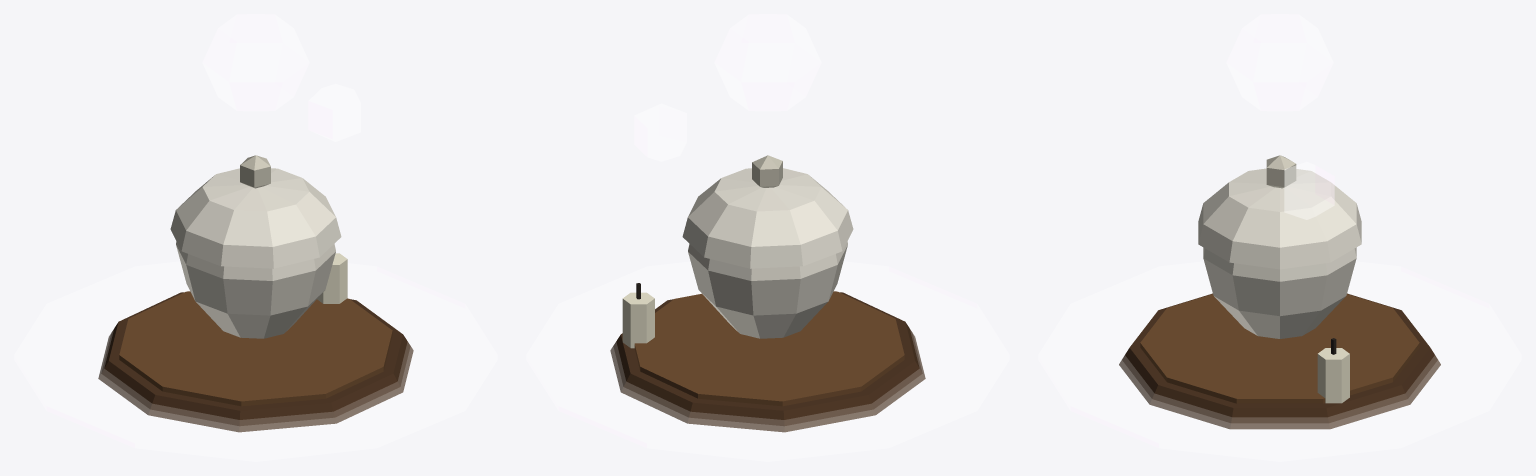
Rendered from prop_keep_bowl.glb.
The picture shows the model from 3 angles, left to right: view 1: azimuth 30°, elevation 25°; view 2: azimuth 150°, elevation 25°; view 3: azimuth 270°, elevation 25°; orthographic projection.
Visible parts, largest first — view 1: prop_keep_bowl, Glow; view 2: prop_keep_bowl, Glow; view 3: prop_keep_bowl, Glow.
Part boxes in pixels (x1,y1,x2,y2): prop_keep_bowl: (98, 155, 413, 432); Glow: (14, 14, 497, 461); prop_keep_bowl: (610, 155, 925, 432); Glow: (526, 14, 1009, 461); prop_keep_bowl: (1119, 155, 1440, 429); Glow: (1038, 14, 1521, 461).
Size of the model in its own units: 0.9 by 0.72 by 0.9.
